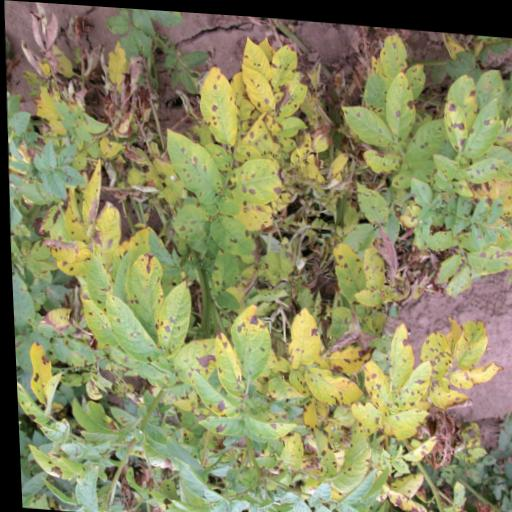Early Blight: (163, 124, 223, 203), (100, 286, 158, 364), (225, 296, 273, 382), (197, 61, 239, 144), (153, 276, 191, 361), (123, 247, 161, 328), (226, 152, 284, 205), (460, 87, 502, 156), (300, 360, 362, 406), (170, 334, 217, 389), (209, 324, 244, 397), (339, 98, 394, 144), (388, 351, 431, 409), (383, 64, 417, 137), (188, 367, 237, 416), (382, 313, 414, 388), (76, 154, 104, 239), (329, 236, 365, 302), (87, 200, 123, 264), (283, 302, 320, 363), (78, 296, 118, 348), (450, 312, 488, 366), (206, 211, 253, 254), (81, 251, 112, 316), (415, 322, 450, 379), (323, 337, 375, 375), (444, 353, 500, 387), (166, 199, 210, 242), (240, 60, 276, 111), (352, 175, 391, 222), (359, 353, 390, 410), (239, 408, 296, 439), (23, 339, 50, 404), (268, 37, 299, 92), (459, 147, 507, 181), (378, 24, 409, 75), (307, 420, 335, 476), (442, 91, 469, 148), (424, 380, 473, 409), (208, 246, 238, 291), (61, 186, 85, 242), (395, 426, 435, 459), (382, 401, 429, 427), (360, 142, 402, 171), (273, 427, 302, 467), (360, 240, 384, 286), (347, 397, 378, 424)
